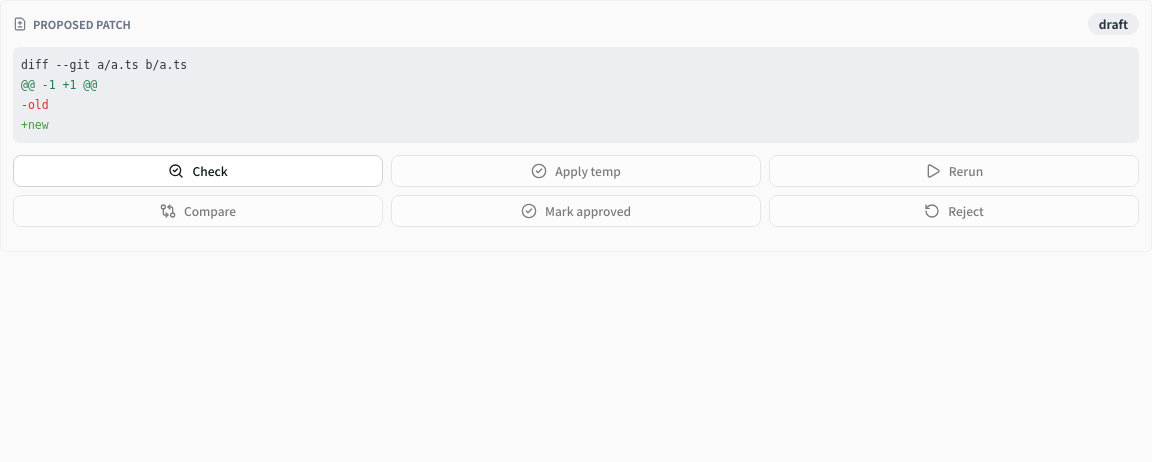
it: RepairReviewPanel › walks through check, temporary apply, rerun, comparison, and approval
Step 1. Click the button "Check" → (198, 171), box [13,155,383,187]
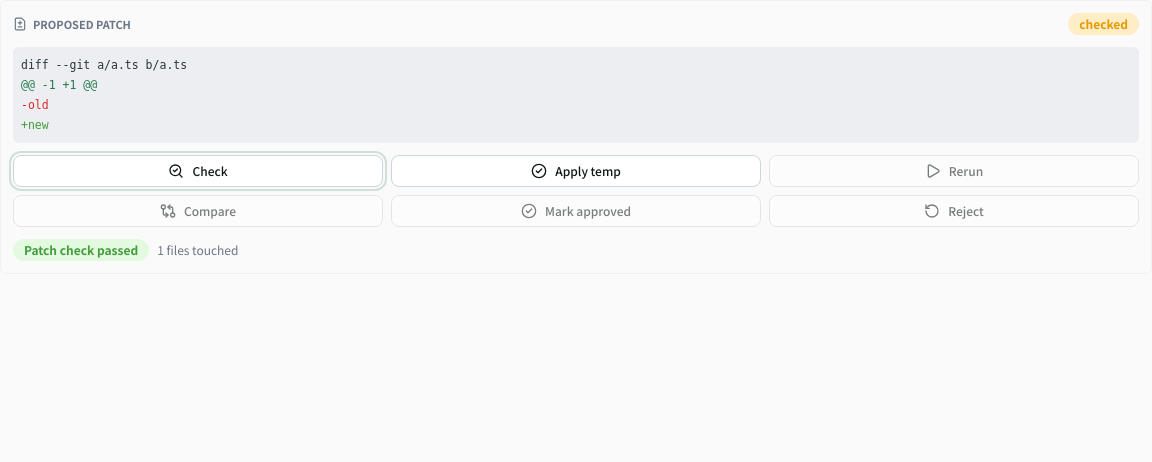
Now the text "Patch check passed" is shown, box [13,239,149,261]
Step 2. Click the button "Apply temp" → (576, 171), box [391,155,761,187]
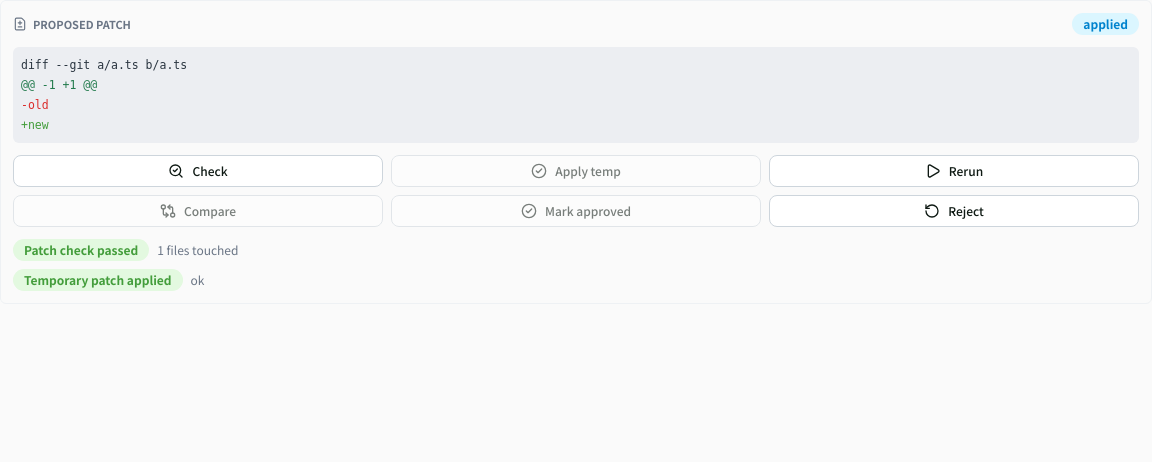
Now the text "Temporary patch applied" is shown, box [13,269,182,291]
Step 3. Click the button "Rerun" → (954, 171), box [769,155,1139,187]
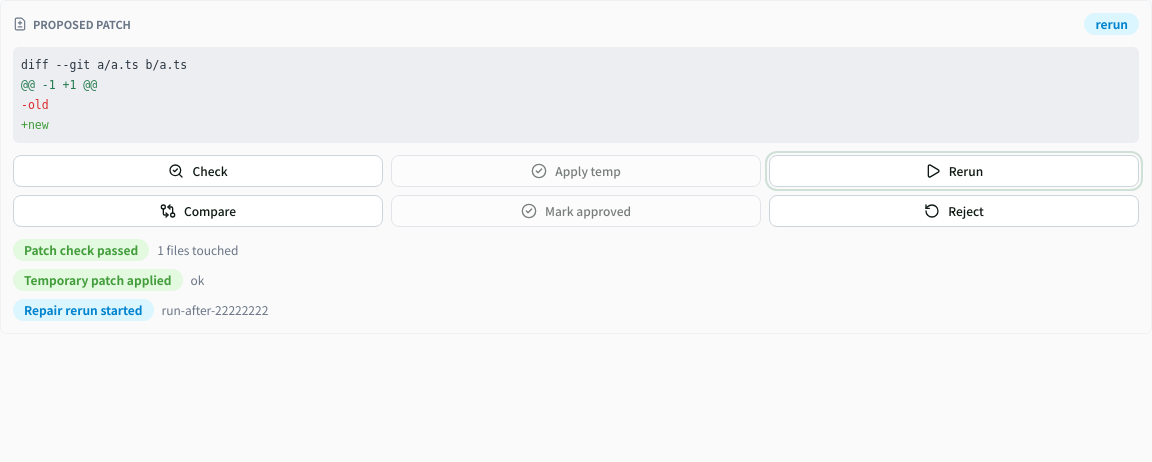
Now the text "Repair rerun started" is shown, box [13,299,154,321]
Step 4. Click the button "Compare" → (198, 211), box [13,195,383,227]
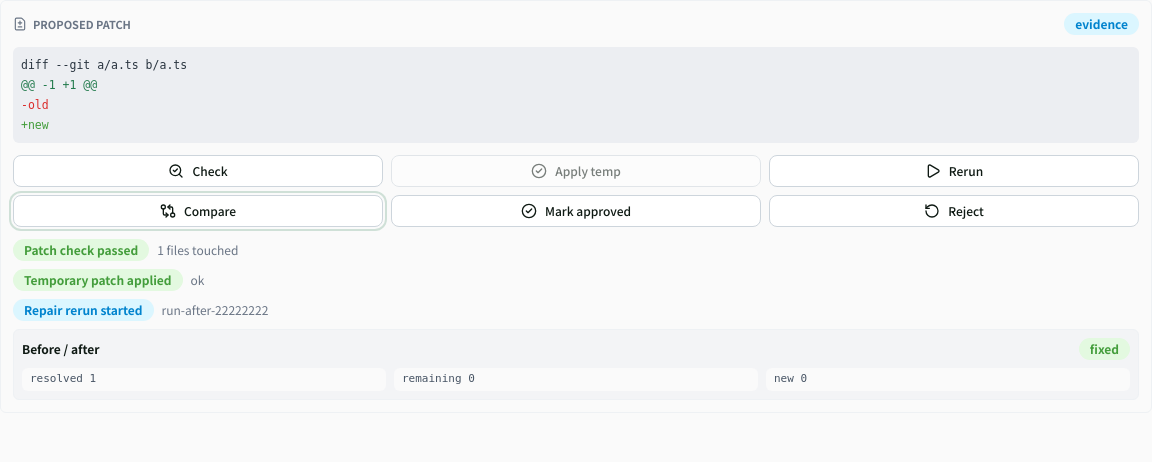
Now the text "Before / after" is shown, box [22,341,99,357]
Now the text "fixed" is shown, box [1079,338,1130,360]
Step 5. Click the button "Mark approved" → (576, 211), box [391,195,761,227]
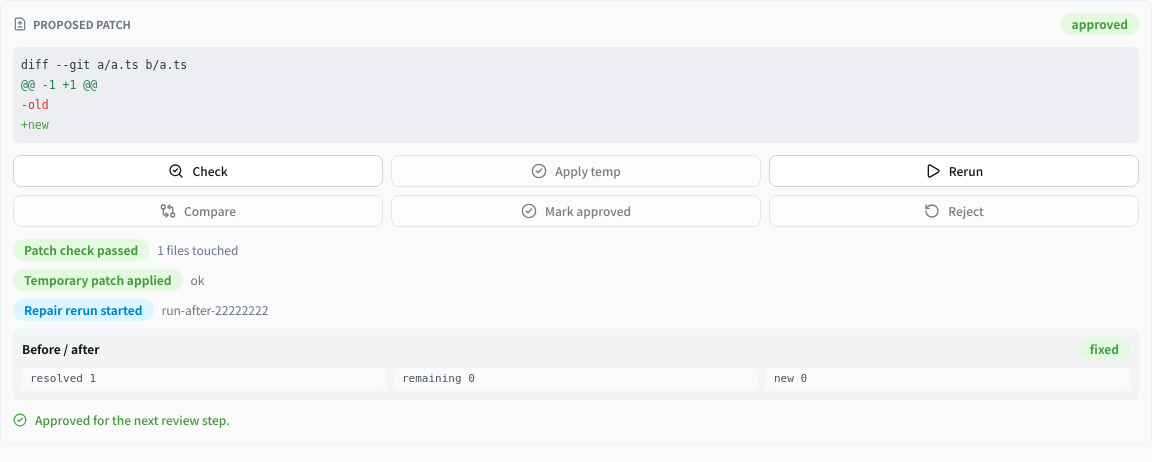
Now the text "Approved for the next review step." is shown, box [13,412,230,428]
